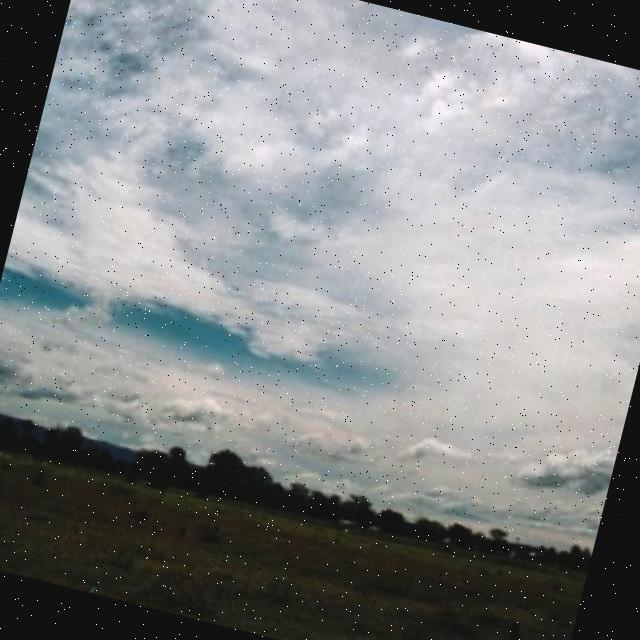Cs: (1, 1, 640, 523)
